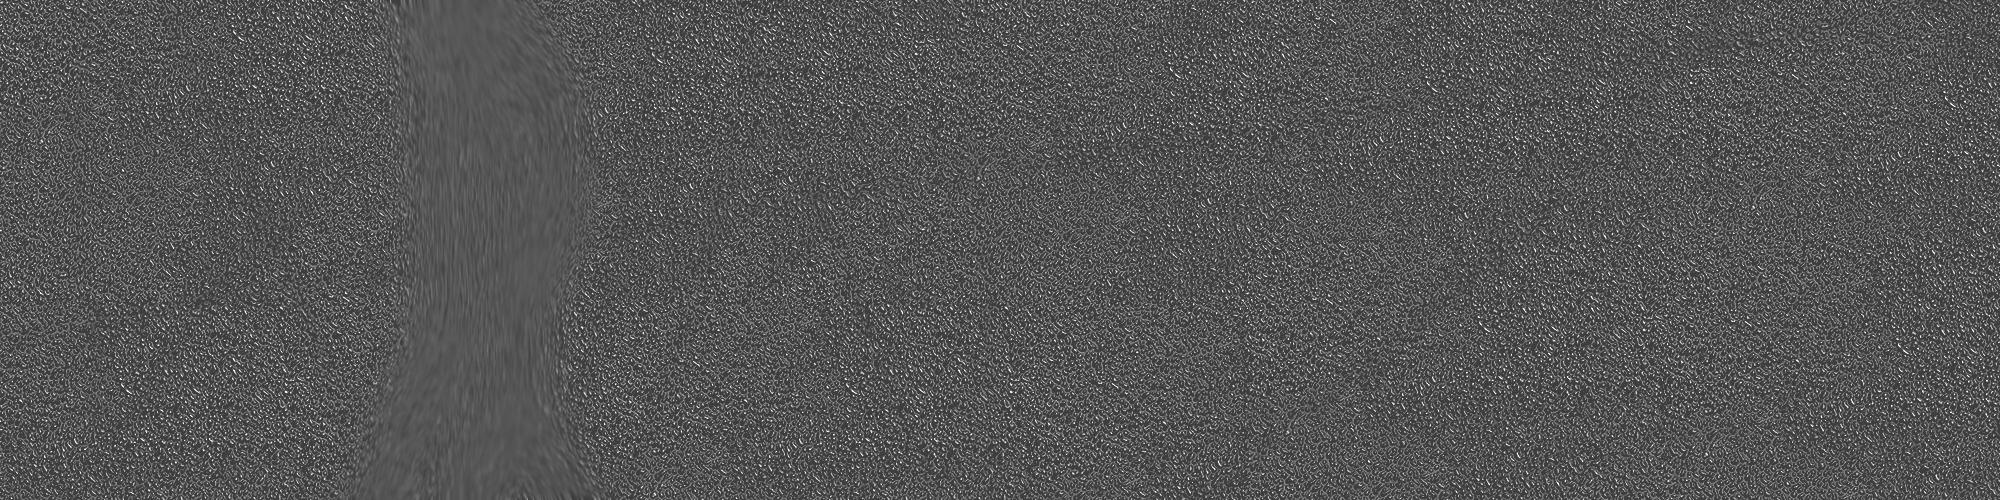Flow_Lines: (316, 3, 605, 497)
